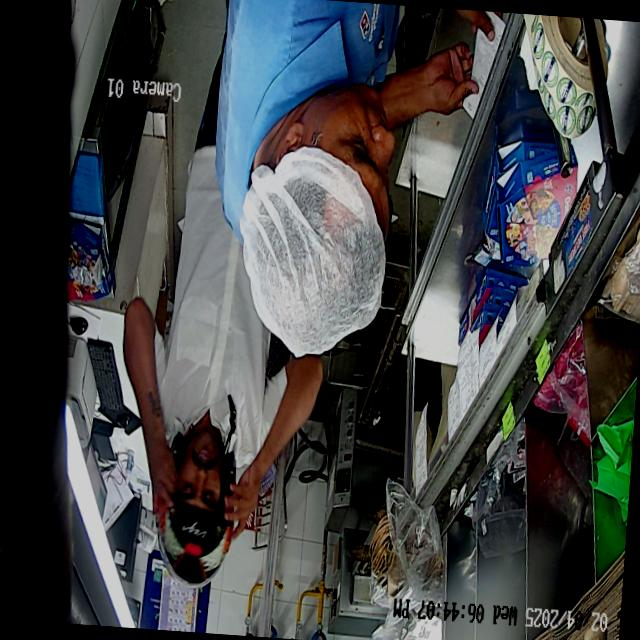helmet: (158, 424, 235, 590)
no_helmet: (242, 84, 397, 358)
